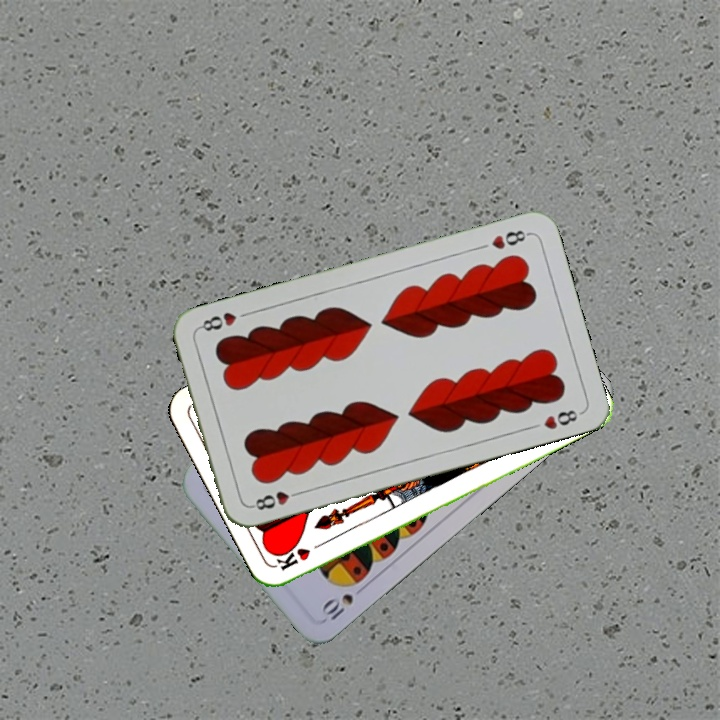H8: (247, 486, 305, 513), (487, 226, 533, 252)
HK: (273, 536, 330, 573)
S10: (317, 589, 356, 625)
